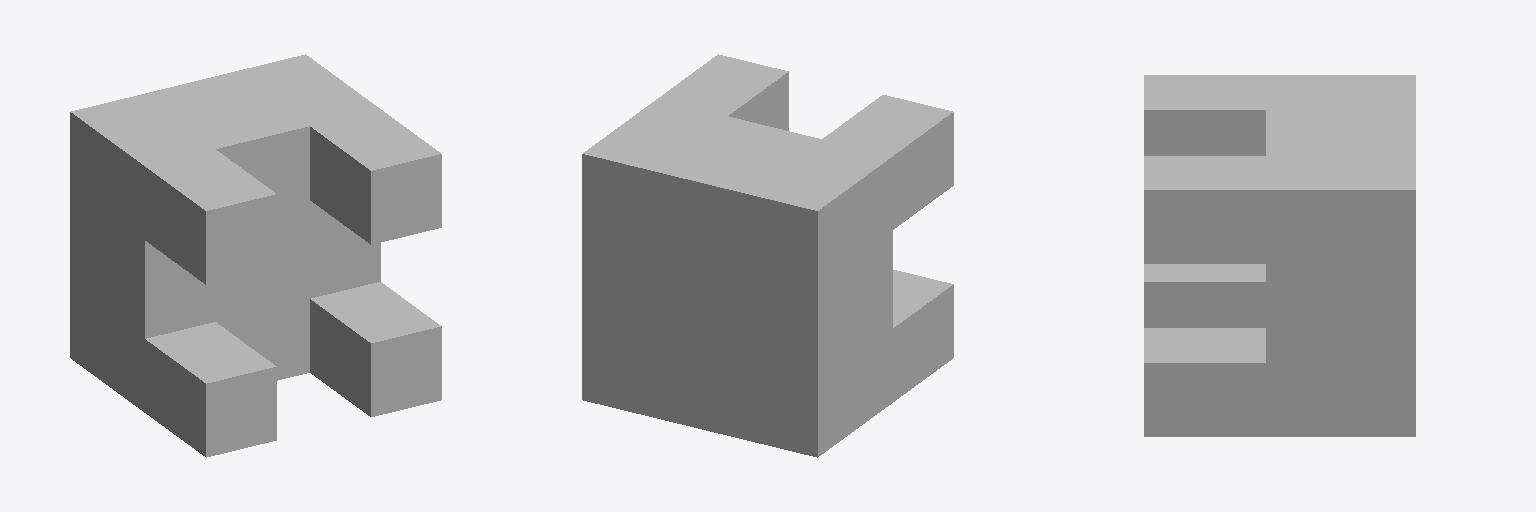
File: cross_piece.obj
3 views of the same model, side by side, from view 1: azimuth 30°, elevation 25°; view 2: azimuth 150°, elevation 25°; view 3: azimuth 270°, elevation 25° (orthographic).
Visible parts, largest first — view 1: cross; view 2: cross; view 3: cross.
Boxes of the visible parts, box(x1,y1,x2,y2) form: cross: box(70, 54, 441, 457); cross: box(582, 54, 953, 457); cross: box(1144, 75, 1415, 436).
Size of the model in its own units: 20 by 20 by 20.